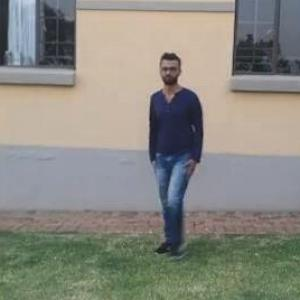follow: (146, 52, 204, 249)
